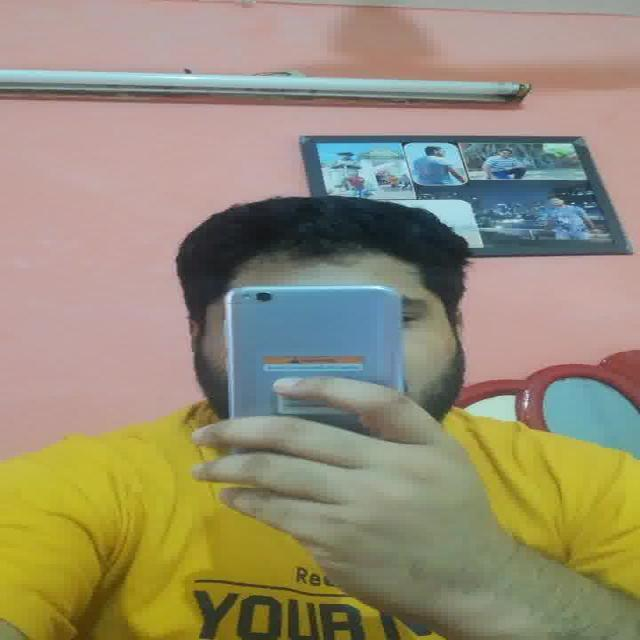Phone: (224, 280, 409, 416)
